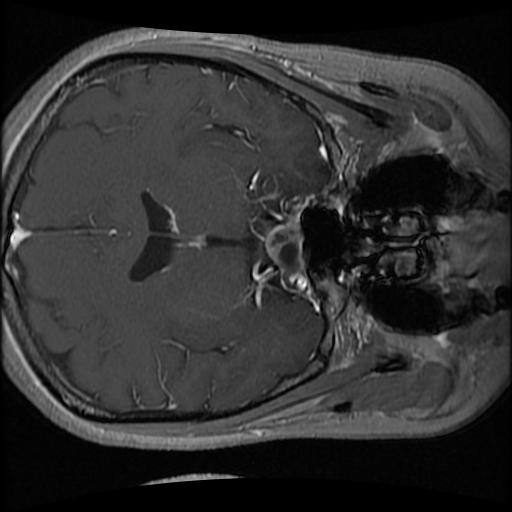pituitary tumour: (265, 206, 306, 293)
